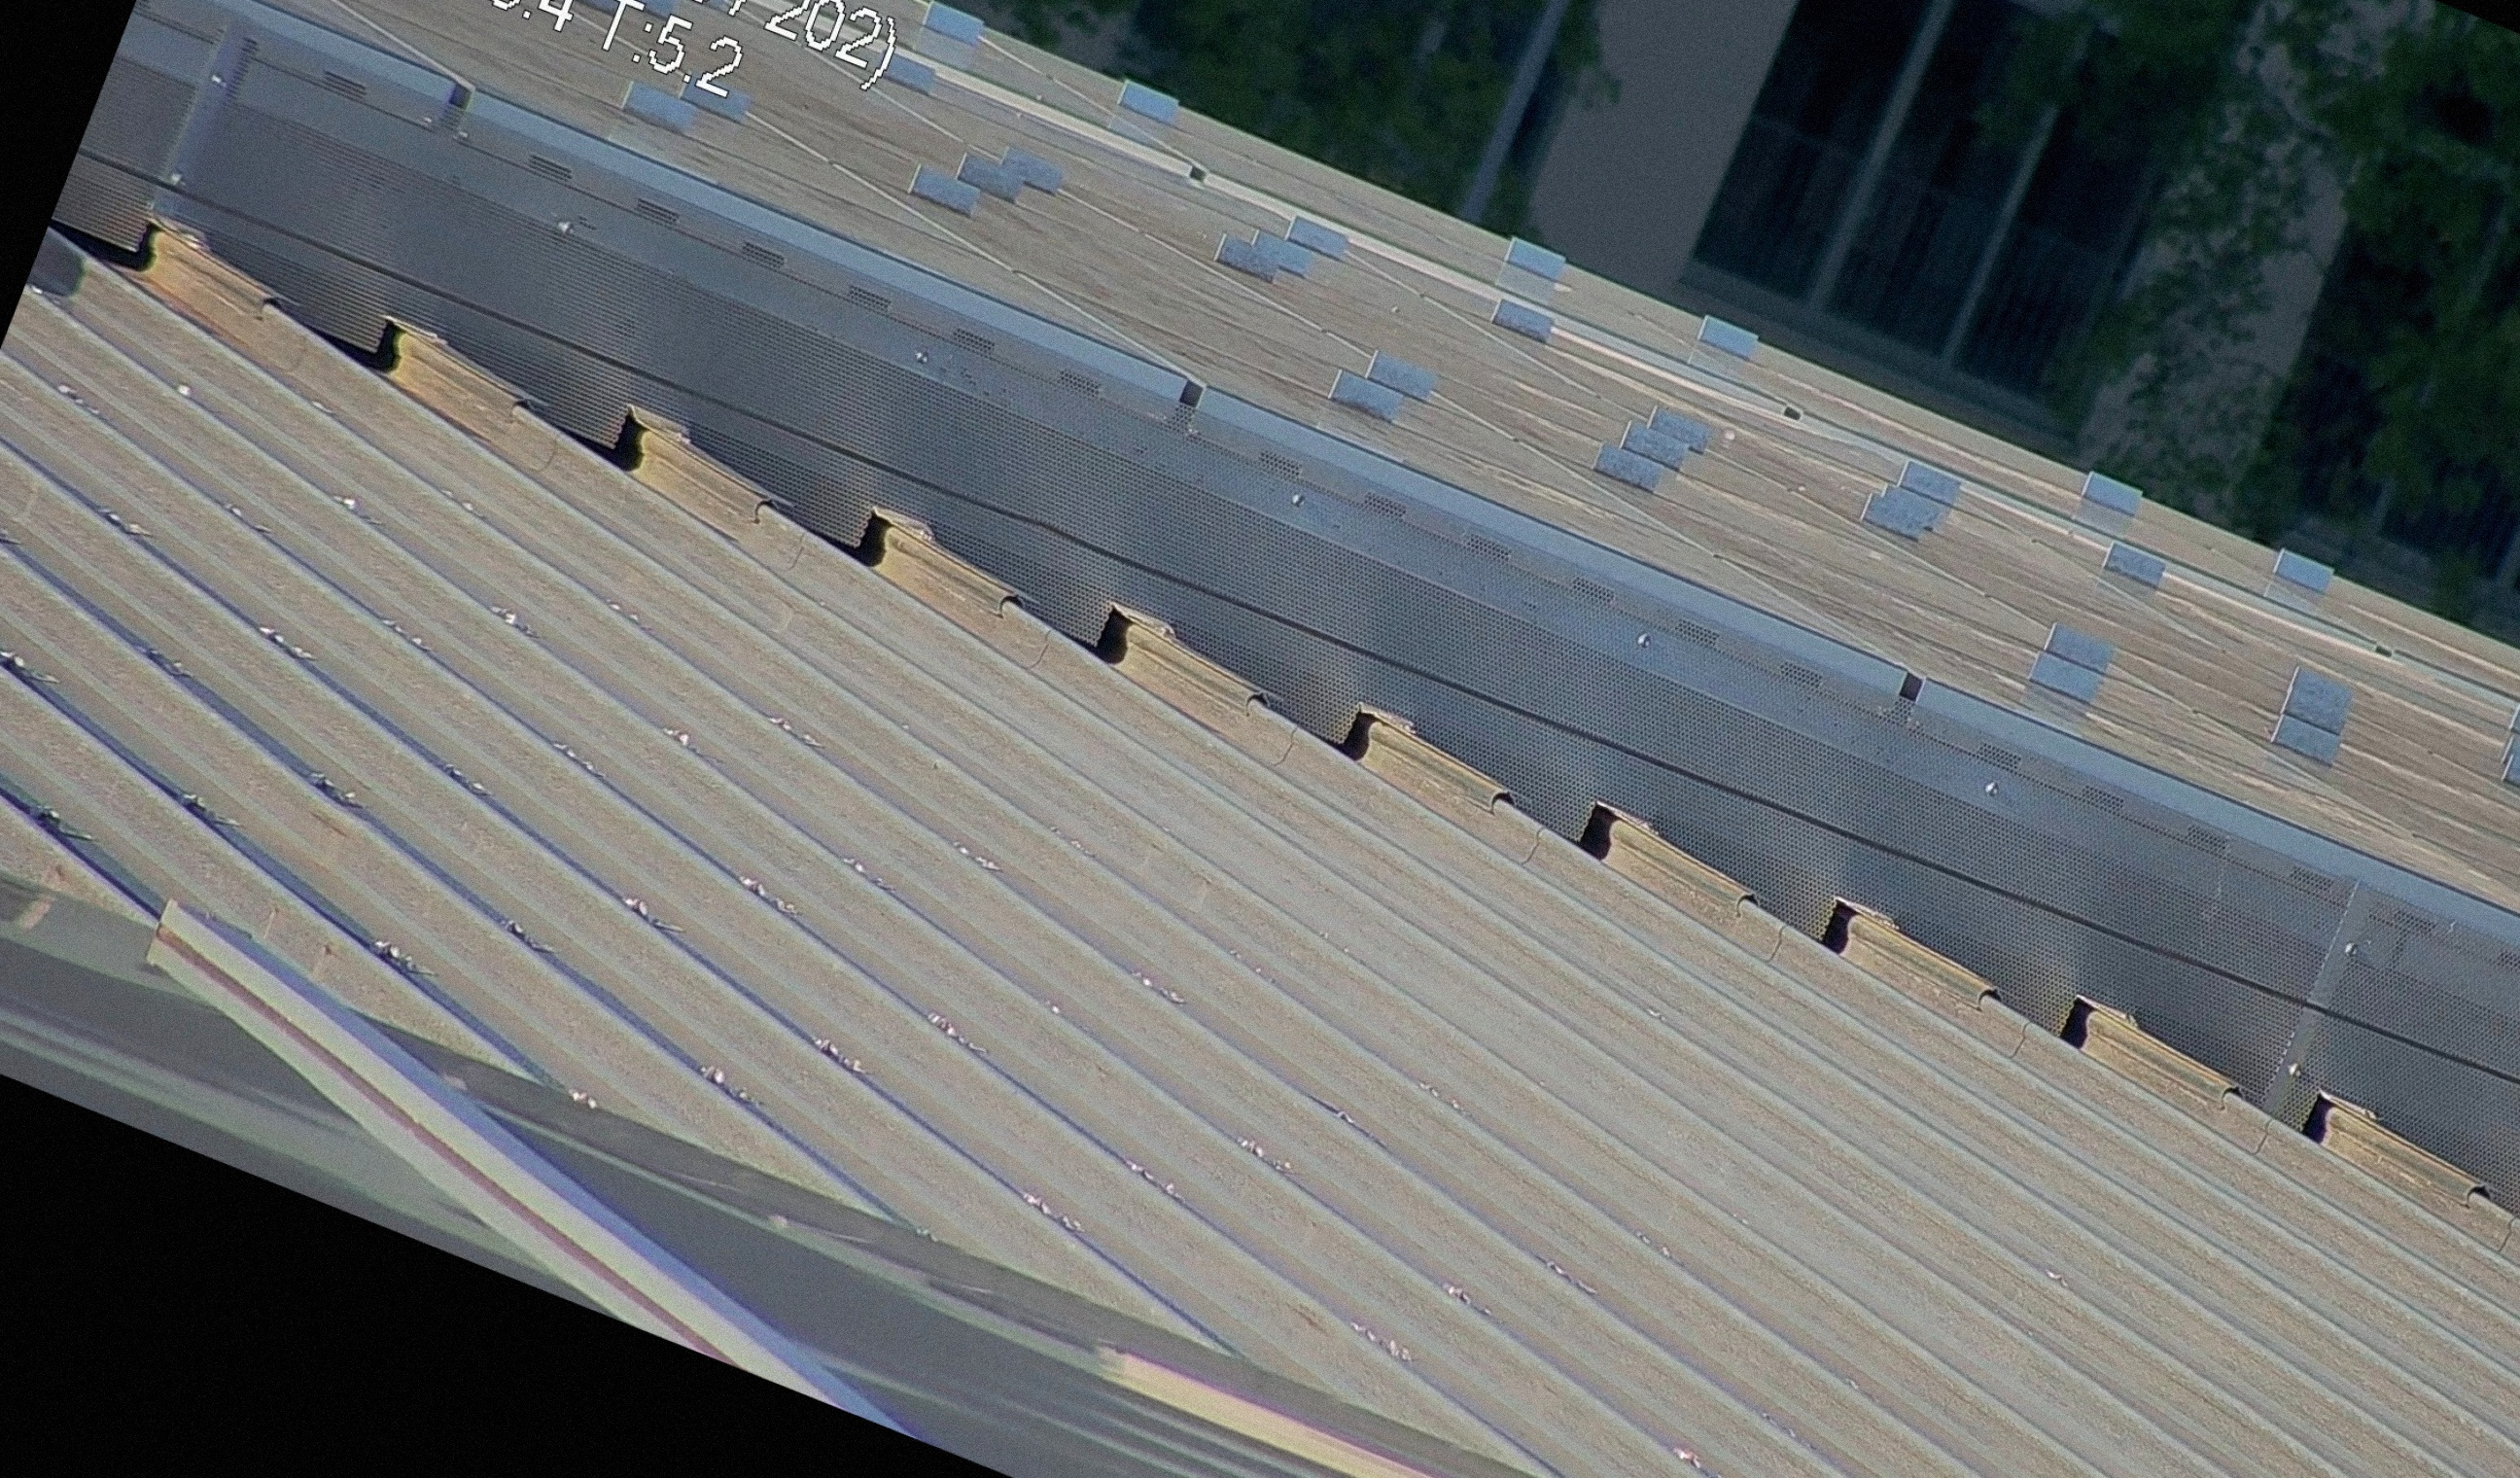Other: (568, 380, 659, 477)
